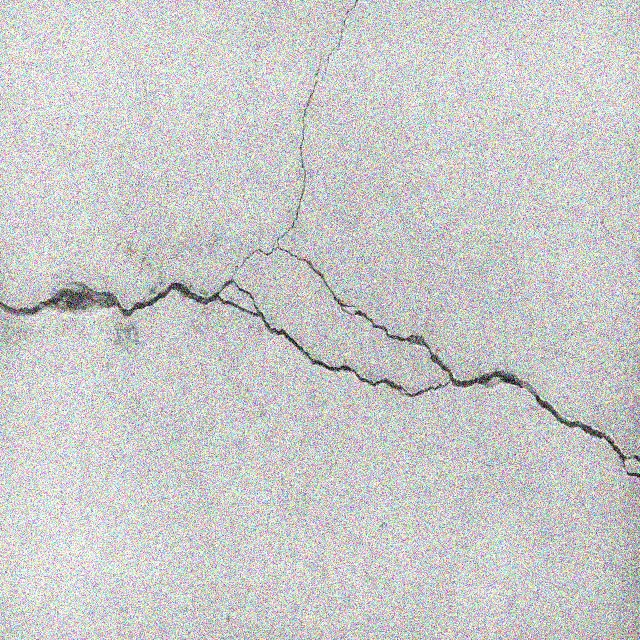SurfaceCrack: (255, 1, 401, 284)
